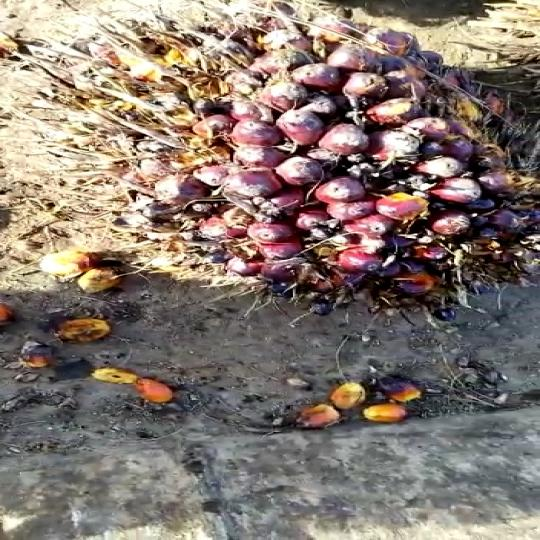masak: (62, 6, 540, 346)
